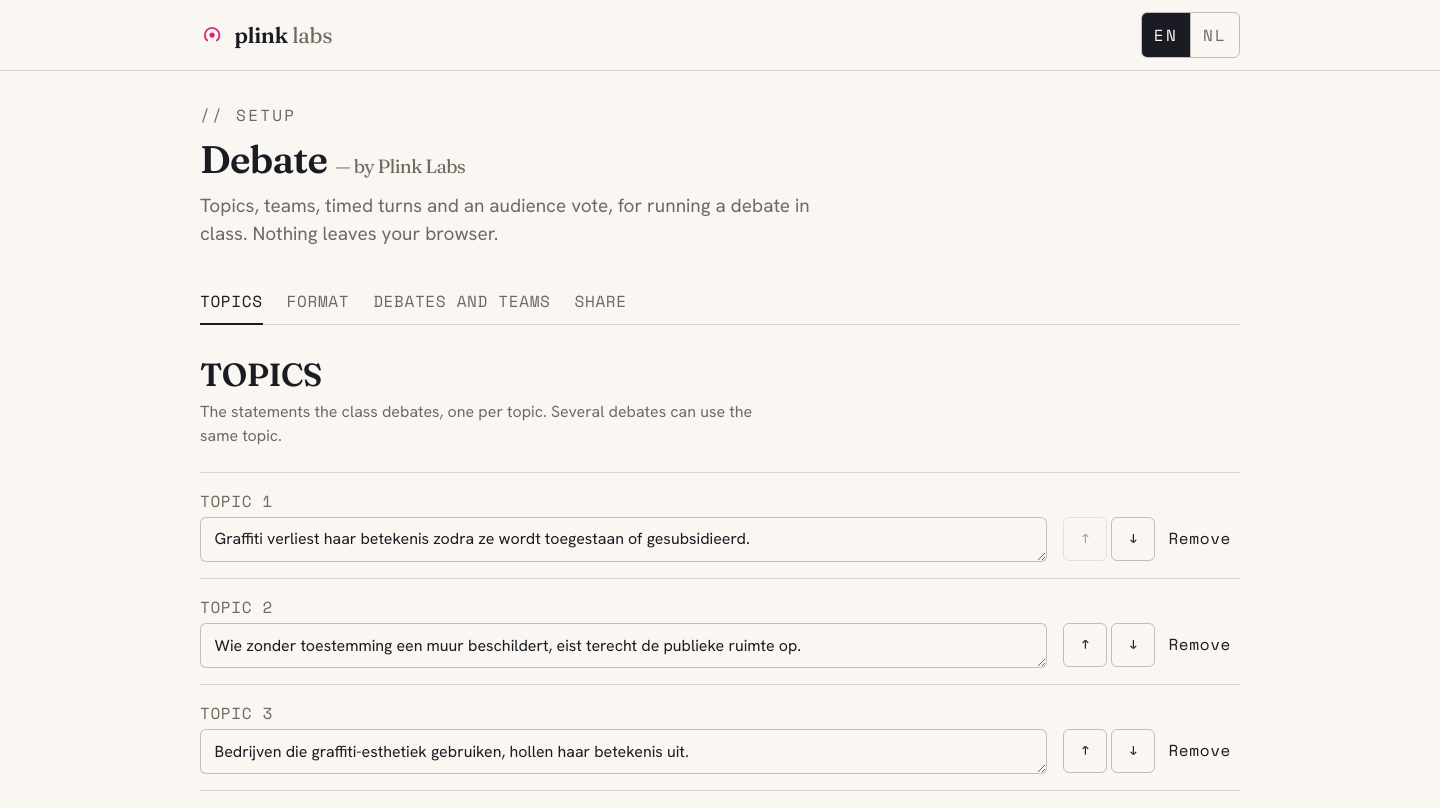
Scenario: App › switches language from the header and leaves the setup’s own labels alone
The image size is (1440, 808).
Click the tab "Format" at point(318, 303), box [287, 281, 349, 325]
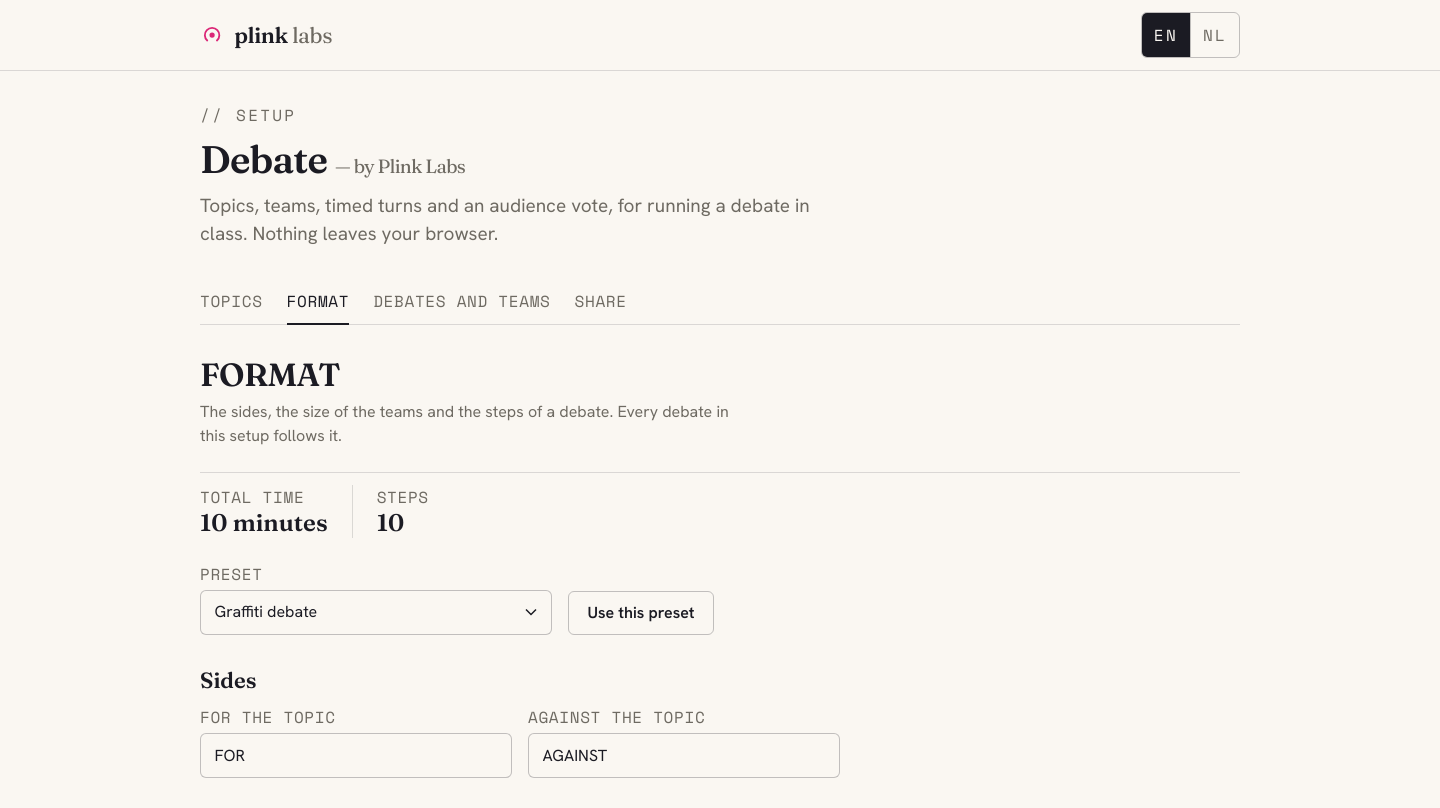
Click the button with aria-label "Nederlands" at point(1214, 35), box [1190, 13, 1239, 57]
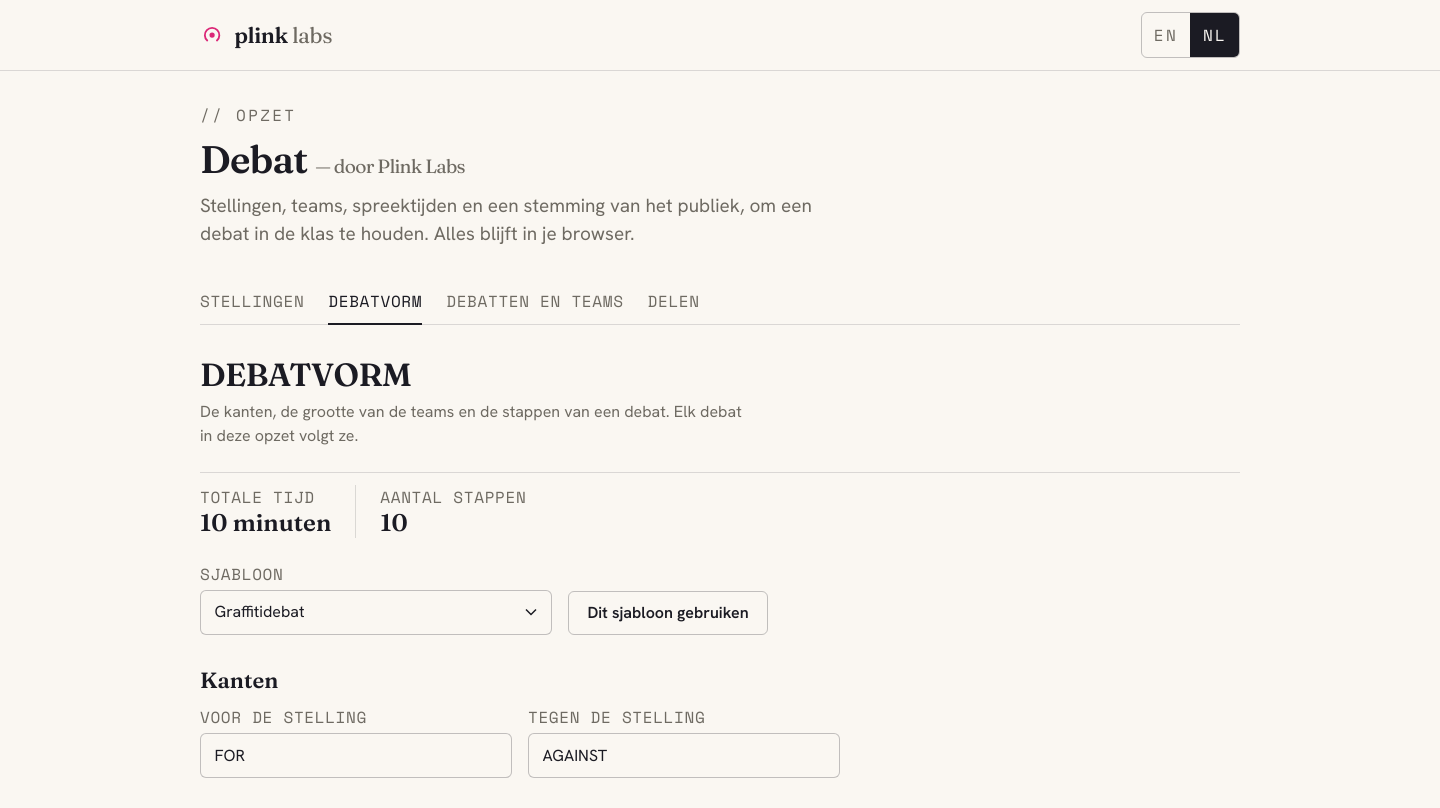
Now the field labelled "Voor de stelling" holds "FOR", box [200, 733, 512, 778]
Now the heading "Debat — door Plink Labs" is shown, box [200, 135, 465, 183]
Click the button with aria-label "English" at point(1166, 35), box [1142, 13, 1190, 57]
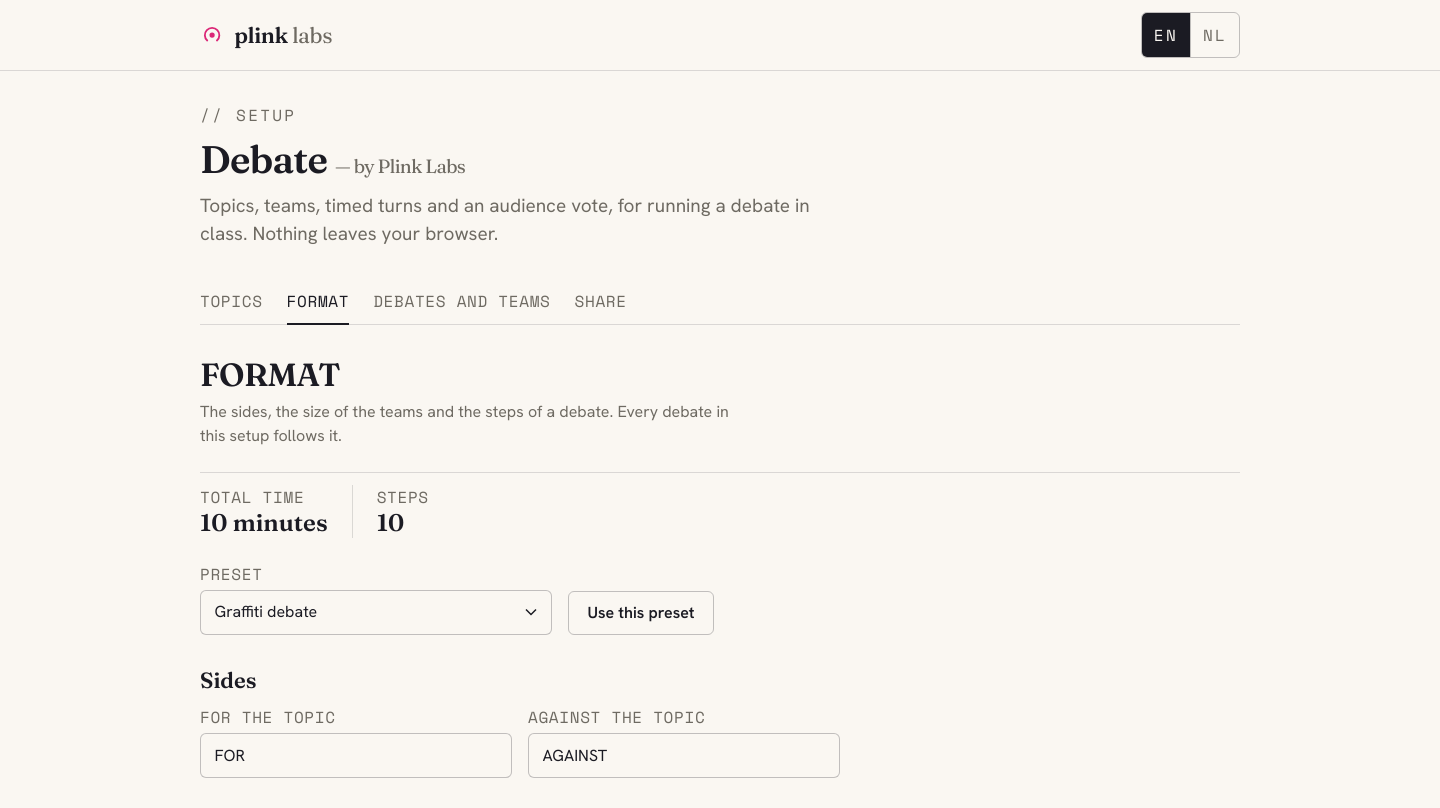
Now the heading "Debate — by Plink Labs" is shown, box [200, 135, 465, 183]
